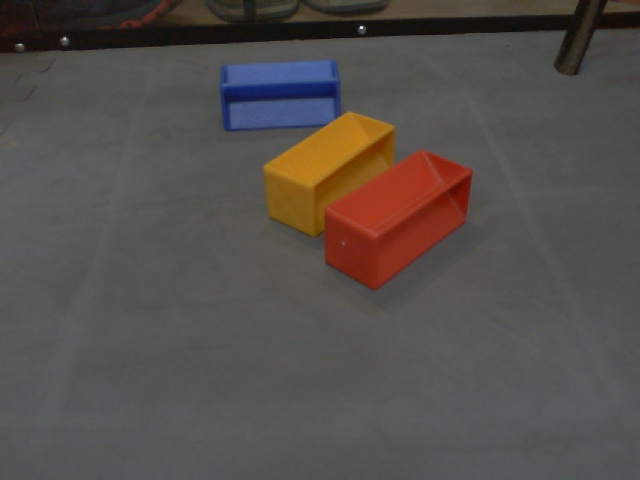BlueSample: (220, 57, 344, 134)
RedSample: (320, 149, 474, 291)
YellowSample: (261, 110, 395, 237)
